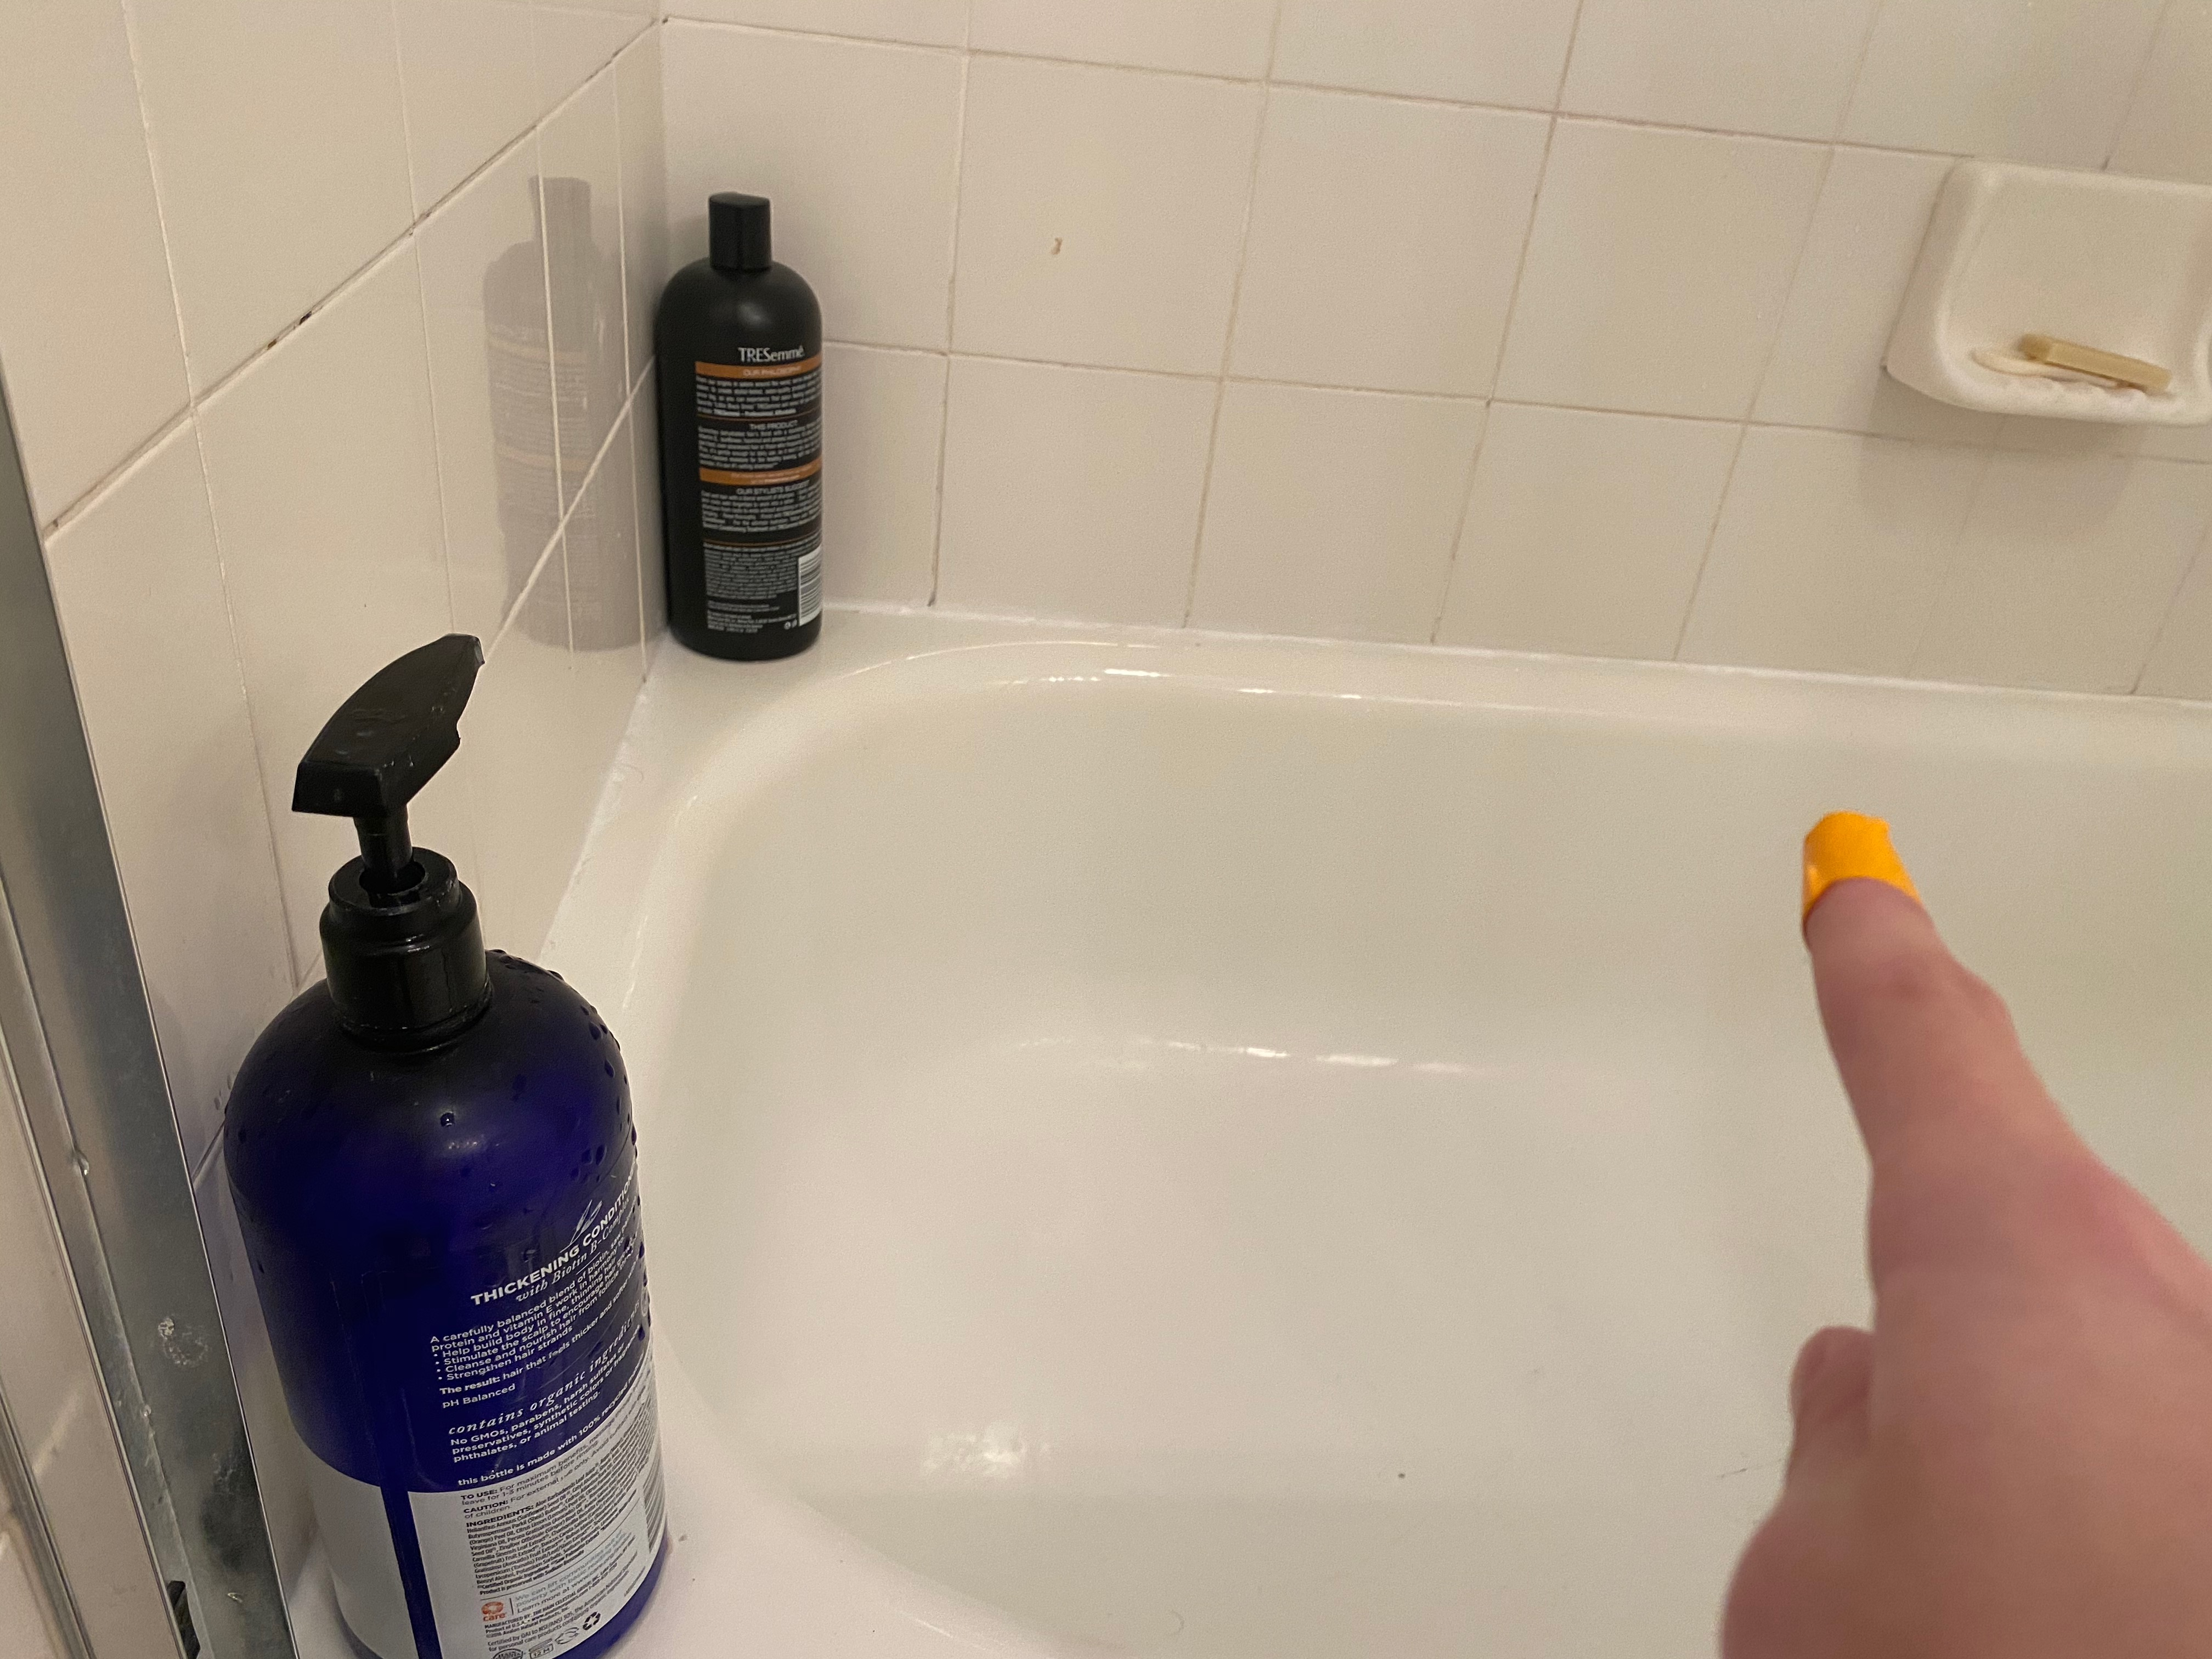fingertip: (1773, 784, 1975, 995)
